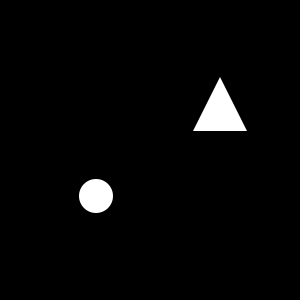rectangle: (79, 179, 113, 213)
triangle: (193, 77, 247, 131)
